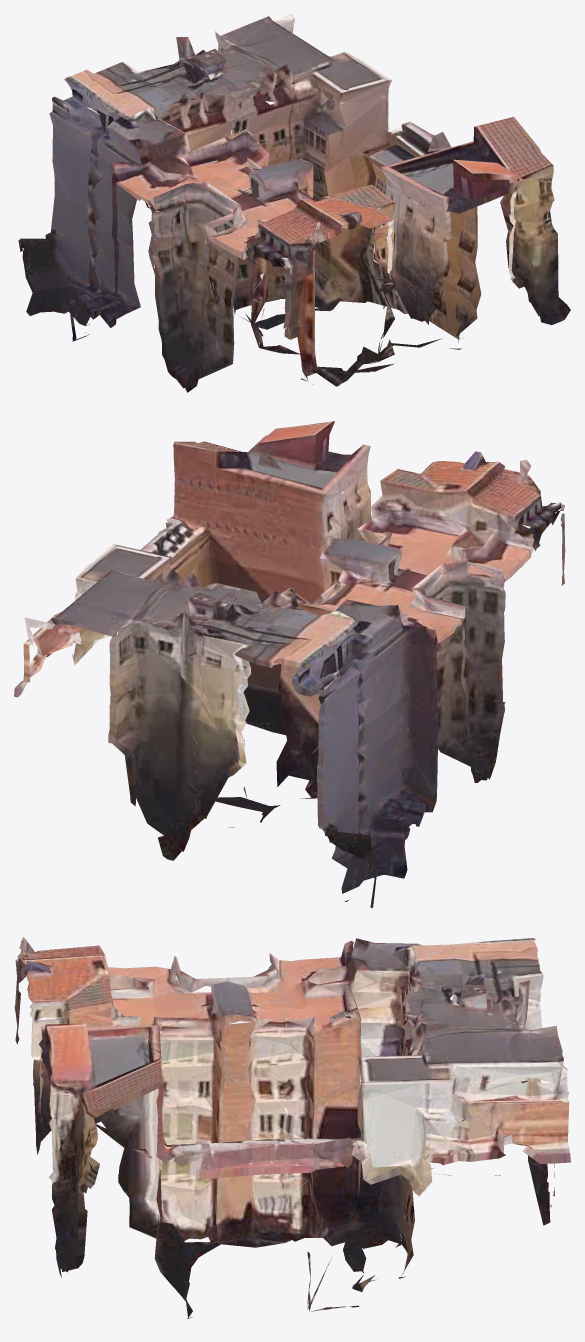
The picture shows the model from 3 angles, top to bottom: view 1: azimuth 30°, elevation 25°; view 2: azimuth 150°, elevation 25°; view 3: azimuth 270°, elevation 25°; orthographic projection. The views are drawn at different scales.
Parts seen in each view (by area): view 1: Mesh_0; view 2: Mesh_0; view 3: Mesh_0.
Boxes of the visible parts, x1,y1,x2,y2 form: Mesh_0: (18,14,570,392); Mesh_0: (14,421,565,907); Mesh_0: (14,937,570,1318).
Bounding box in the file's own units: 34.1 × 22.16 × 41.46.
1 material, 1 textured.
